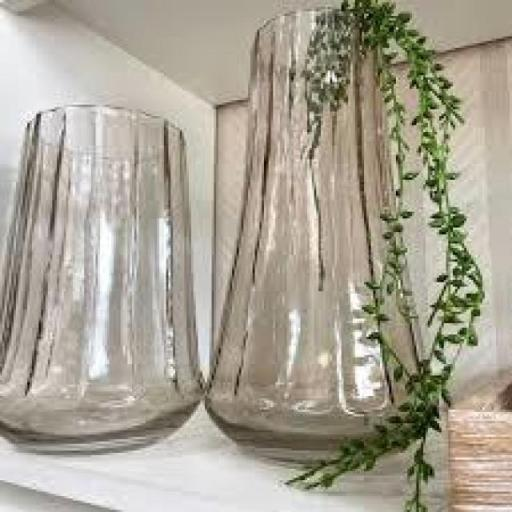glass: (206, 6, 416, 455), (0, 87, 206, 469)
